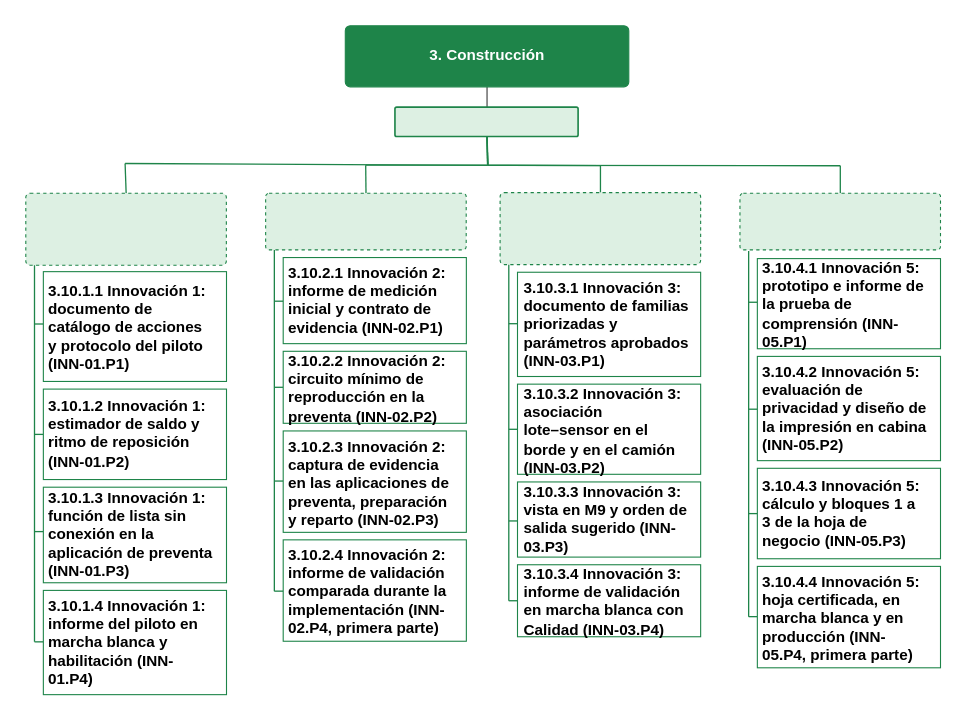
This 968x722 diagram has some shape labels left out. The box of each missing label's shape, as (x1, y1, x2, y2) in pixels:
3.10 Innovaciones: (393, 106, 578, 137)
3.10.1 Innovación 1: seguimiento de vencimiento posentrega en el local: (24, 192, 226, 265)
3.10.2 Innovación 2: reproducción de incidentes de terreno: (264, 192, 466, 250)
3.10.3 Innovación 3: vida útil remanente por historia térmica del lote: (499, 191, 700, 264)
3.10.4 Innovación 5: hoja de negocio del almacenero: (739, 192, 940, 250)
